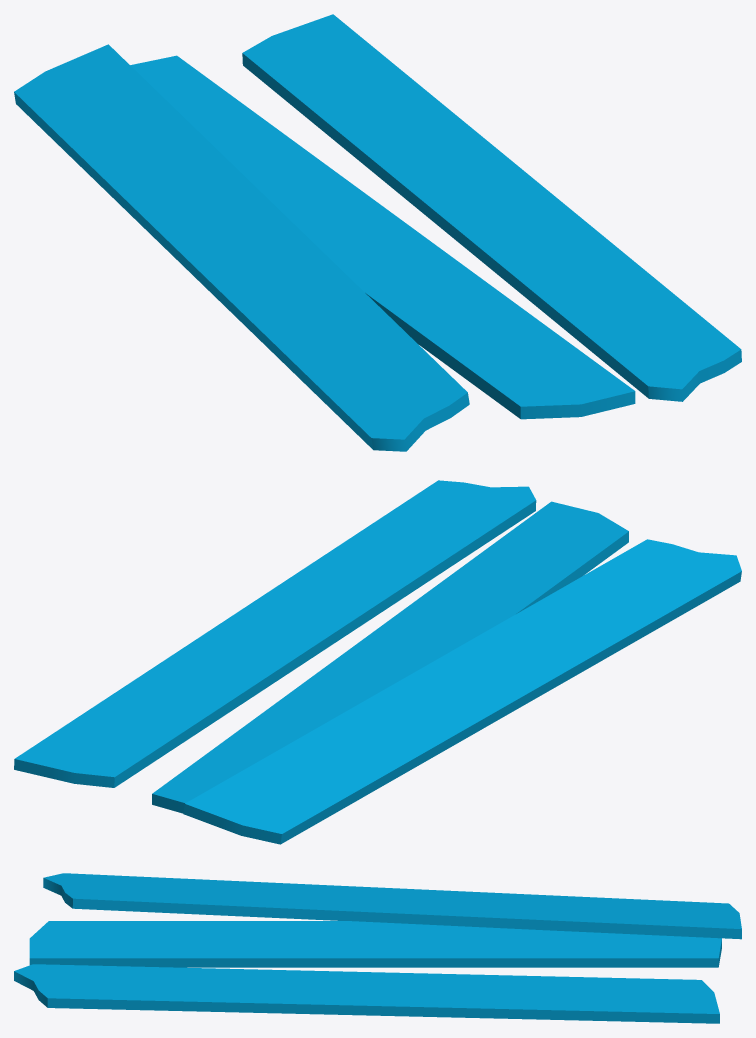
File: Board_Pile_02_Lod0.fbx
3 views of the same model, one above another, from view 1: azimuth 30°, elevation 25°; view 2: azimuth 150°, elevation 25°; view 3: azimuth 270°, elevation 25° (orthographic). The views are drawn at different scales.
Visible parts, largest first — view 1: Board_Pile_02_Lod0; view 2: Board_Pile_02_Lod0; view 3: Board_Pile_02_Lod0.
Boxes of the visible parts, x1,y1,x2,y2 form: Board_Pile_02_Lod0: (14, 14, 741, 451); Board_Pile_02_Lod0: (14, 480, 741, 844); Board_Pile_02_Lod0: (14, 873, 741, 1023).
Bounding box in the file's own units: 75.36 × 5.39 × 158.
